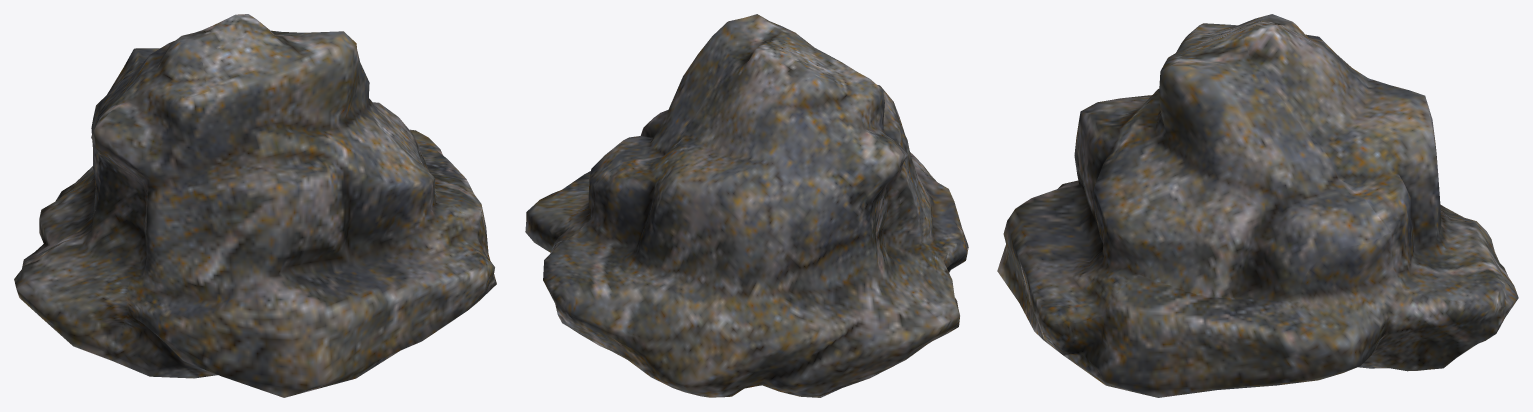
File: rock.obj
3 renders of one model, left to right at view 1: azimuth 30°, elevation 25°; view 2: azimuth 150°, elevation 25°; view 3: azimuth 270°, elevation 25°, orthographic. The views are drawn at different scales.
Parts seen in each view (by area): view 1: Rock_6; view 2: Rock_6; view 3: Rock_6.
Boxes of the visible parts, x1,y1,x2,y2 form: Rock_6: (14,14,496,397); Rock_6: (525,14,968,397); Rock_6: (997,14,1518,397).
Bounding box in the file's own units: 2.6 × 1.9 × 2.65.
